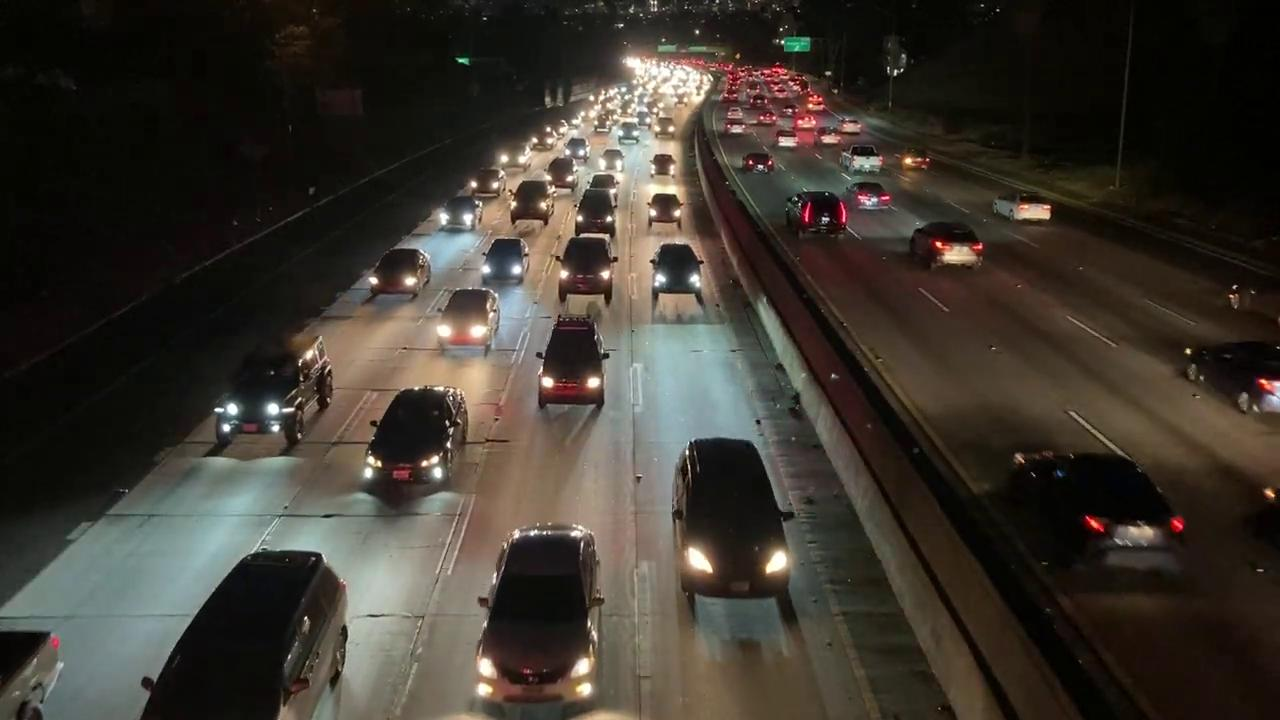car: (133, 545, 334, 720), (457, 520, 628, 708), (998, 428, 1192, 580), (670, 422, 814, 606), (209, 327, 347, 441), (356, 379, 479, 493), (1182, 316, 1280, 414), (533, 308, 620, 408), (548, 235, 628, 304), (431, 289, 503, 348), (646, 246, 705, 305), (909, 225, 986, 270), (476, 230, 534, 285), (369, 249, 432, 296), (788, 193, 849, 237), (570, 187, 624, 236), (505, 179, 558, 226), (433, 196, 485, 230), (643, 187, 686, 226), (842, 141, 884, 178), (849, 182, 896, 210), (890, 144, 933, 174), (496, 142, 541, 170), (1009, 198, 1054, 225), (468, 167, 508, 195), (543, 157, 575, 192), (562, 136, 596, 162), (741, 152, 778, 174), (600, 146, 627, 174), (649, 152, 679, 177), (773, 127, 798, 152), (616, 121, 642, 142), (833, 119, 867, 134), (815, 125, 840, 144), (722, 120, 756, 133)
